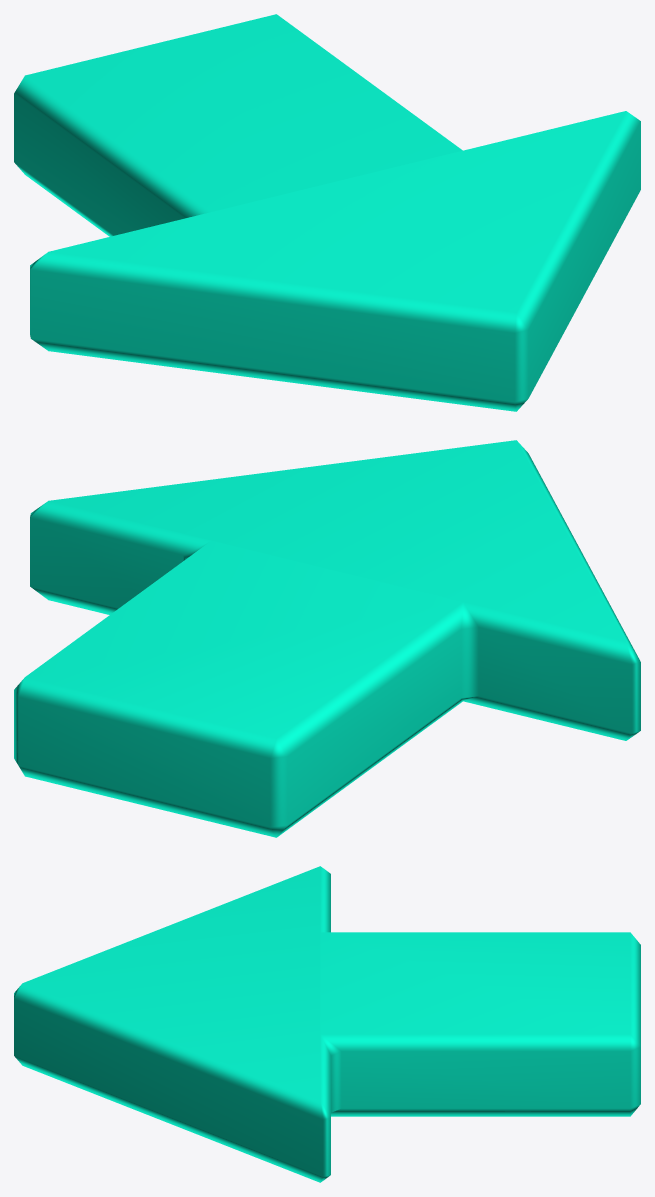
Rendered from arrow.fbx.
3 renders of one model, top to bottom at view 1: azimuth 30°, elevation 25°; view 2: azimuth 150°, elevation 25°; view 3: azimuth 270°, elevation 25°, orthographic. The views are drawn at different scales.
Visible parts, largest first — view 1: arrow; view 2: arrow; view 3: arrow.
Boxes of the visible parts, left/top/right/bottom form: arrow: left=14, top=14, right=640, bottom=411; arrow: left=14, top=440, right=640, bottom=837; arrow: left=14, top=866, right=640, bottom=1182.
Bounding box in the file's own units: 160 × 24.94 × 172.
